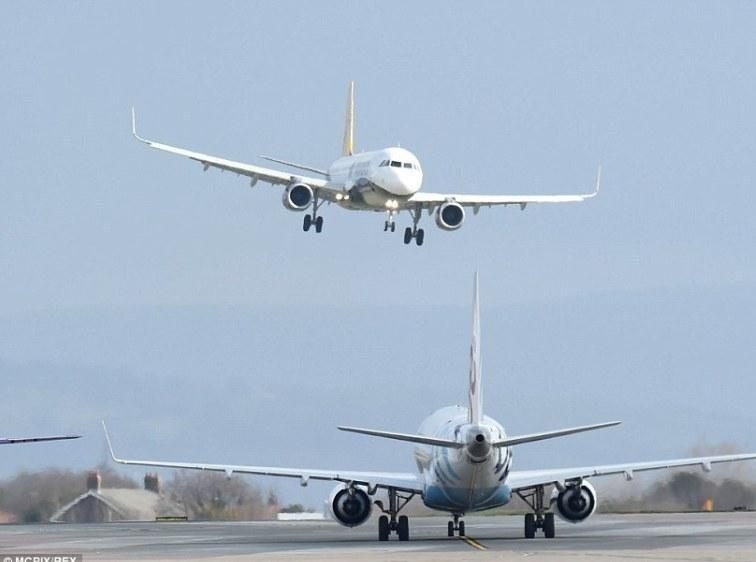airplane: (100, 268, 756, 541), (122, 77, 606, 240)
